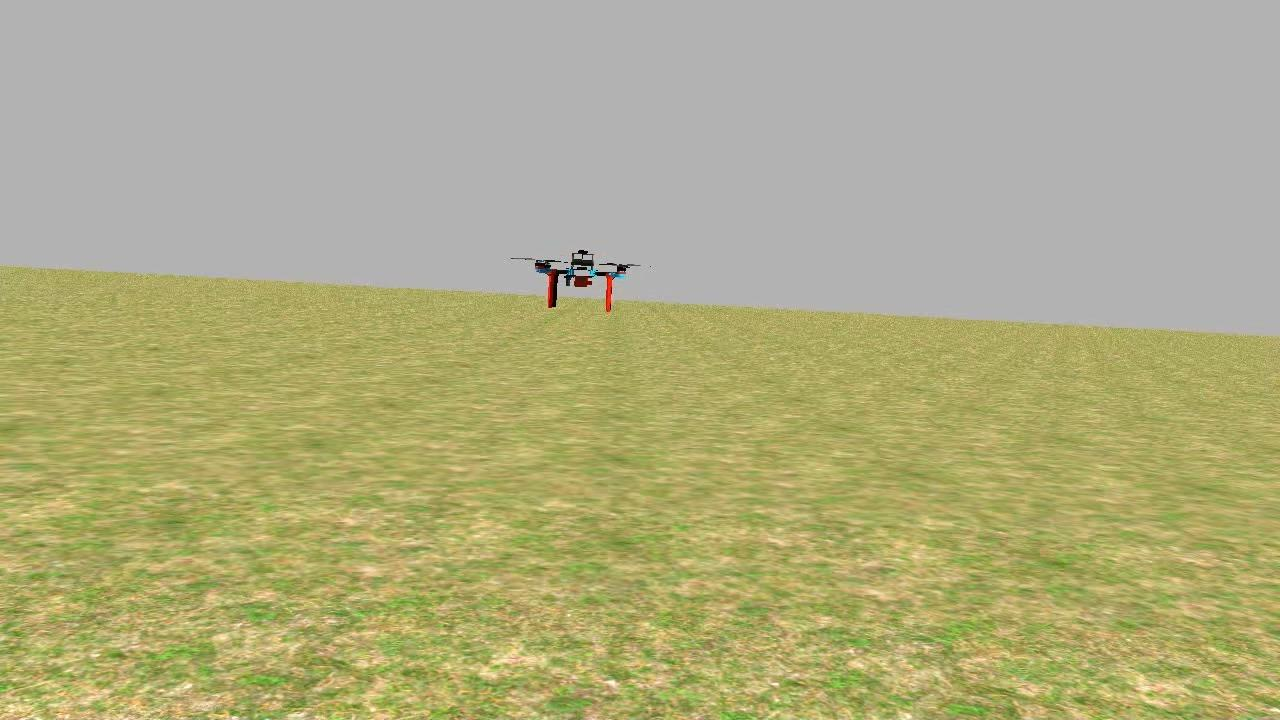UAV: (518, 242, 640, 313)
